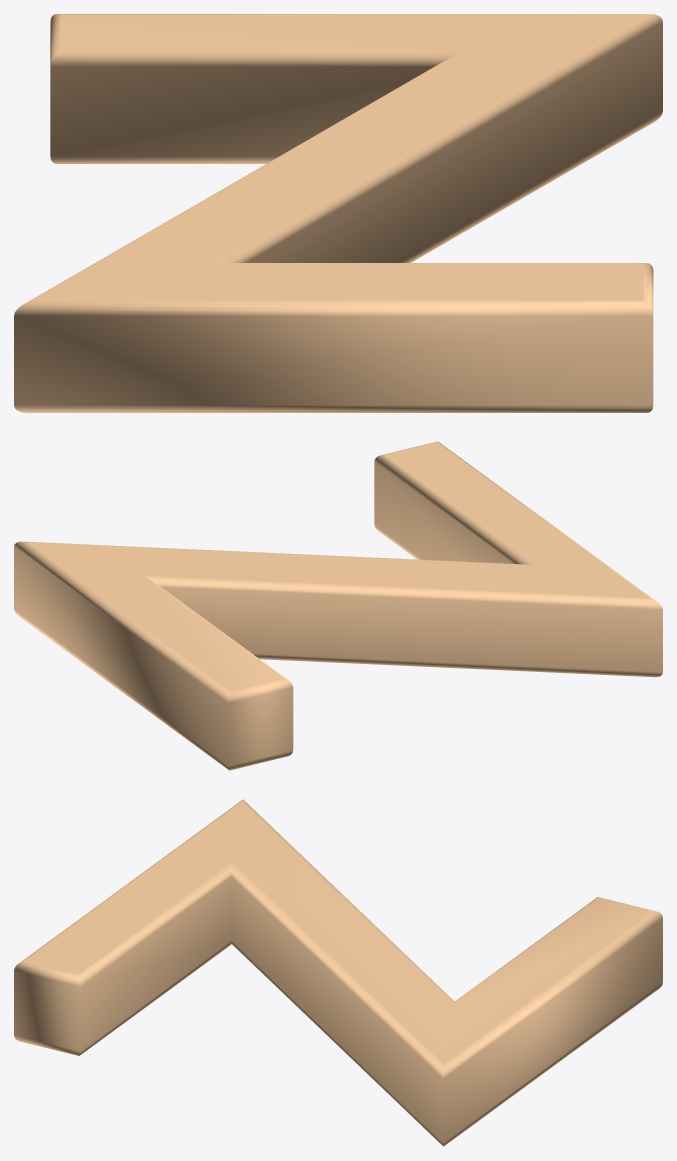
The model's file is Toy157.fbx.
The picture shows the model from 3 angles, top to bottom: view 1: azimuth 30°, elevation 25°; view 2: azimuth 150°, elevation 25°; view 3: azimuth 270°, elevation 25°; orthographic projection. The views are drawn at different scales.
Parts seen in each view (by area): view 1: Toy157; view 2: Toy157; view 3: Toy157.
Boxes of the visible parts, x1=… form: Toy157: x1=14, y1=14, x2=662, y2=412; Toy157: x1=14, y1=441, x2=662, y2=770; Toy157: x1=14, y1=799, x2=662, y2=1146.
Size of the model in its own units: 0.1853 by 0.0251 by 0.1841.
